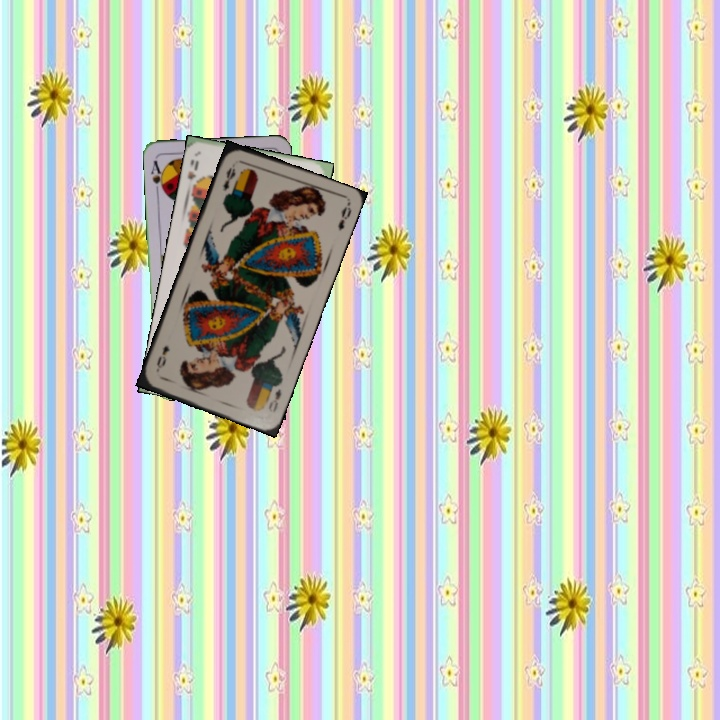EO: (264, 385, 284, 415), (219, 163, 238, 194)
S9: (183, 156, 203, 193)
SA: (147, 156, 167, 196)
